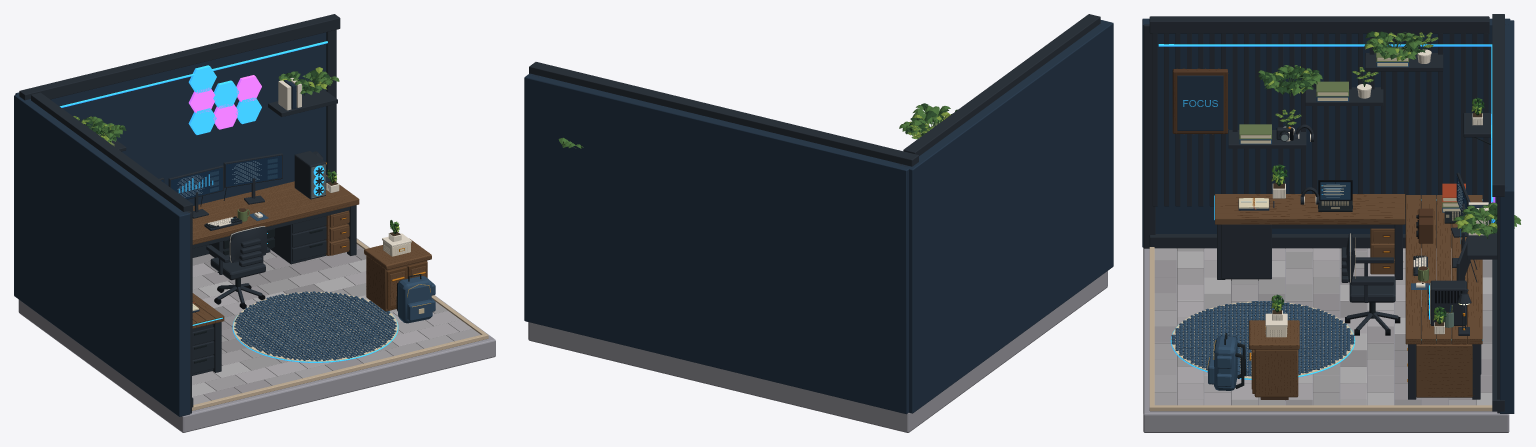
The model's file is tech-mobile.glb.
3 renders of one model, left to right at view 1: azimuth 30°, elevation 25°; view 2: azimuth 150°, elevation 25°; view 3: azimuth 270°, elevation 25°, orthographic. The views are drawn at different scales.
Parts seen in each view (by area): view 1: asset-architecture, asset-blue-braided-rug, asset-desk, asset-chair, asset-tech-right-credenza, asset-Tech right workstation pedestal, asset-Monitor 2, asset-Visible student backpack, asset-Monitor 1, asset-tempered-pc, asset-Tech left workstation pedestal, asset-left-desk-return (+3 smaller); view 2: asset-architecture, asset-Tech wall full fern 1; view 3: asset-architecture, asset-desk, asset-blue-braided-rug, asset-left-desk-return, asset-Tech gallery artwork, asset-tech-right-credenza, asset-Tech left workstation pedestal, asset-chair, asset-Visible student backpack, asset-tempered-pc, asset-Tech wall full fern 0, asset-Tech wall full fern 1 (+12 smaller).
Part boxes in pixels (x1=…): asset-architecture: x1=14, y1=14, x2=495, y2=432; asset-blue-braided-rug: x1=233, y1=291, x2=397, y2=362; asset-desk: x1=192, y1=175, x2=359, y2=255; asset-chair: x1=206, y1=226, x2=270, y2=309; asset-tech-right-credenza: x1=364, y1=238, x2=431, y2=311; asset-Tech right workstation pedestal: x1=270, y1=216, x2=326, y2=264; asset-Monitor 2: x1=223, y1=153, x2=282, y2=204; asset-Visible student backpack: x1=396, y1=274, x2=435, y2=323; asset-Monitor 1: x1=168, y1=165, x2=223, y2=218; asset-tempered-pc: x1=294, y1=151, x2=325, y2=199; asset-Tech left workstation pedestal: x1=192, y1=324, x2=214, y2=375; asset-left-desk-return: x1=192, y1=293, x2=224, y2=372; asset-architecture: x1=524, y1=14, x2=1113, y2=432; asset-Tech wall full fern 1: x1=899, y1=103, x2=957, y2=136; asset-architecture: x1=1142, y1=14, x2=1514, y2=432; asset-desk: x1=1405, y1=195, x2=1482, y2=399; asset-blue-braided-rug: x1=1171, y1=301, x2=1354, y2=378; asset-left-desk-return: x1=1215, y1=194, x2=1405, y2=279; asset-Tech gallery artwork: x1=1172, y1=68, x2=1228, y2=134; asset-tech-right-credenza: x1=1249, y1=320, x2=1299, y2=400; asset-Tech left workstation pedestal: x1=1221, y1=224, x2=1271, y2=280; asset-chair: x1=1341, y1=233, x2=1400, y2=335; asset-Visible student backpack: x1=1207, y1=333, x2=1246, y2=390; asset-tempered-pc: x1=1427, y1=280, x2=1466, y2=325; asset-Tech wall full fern 0: x1=1258, y1=65, x2=1322, y2=96; asset-Tech wall full fern 1: x1=1364, y1=31, x2=1425, y2=60.
Size of the model in its own units: 4.51 by 3.04 by 4.18.
